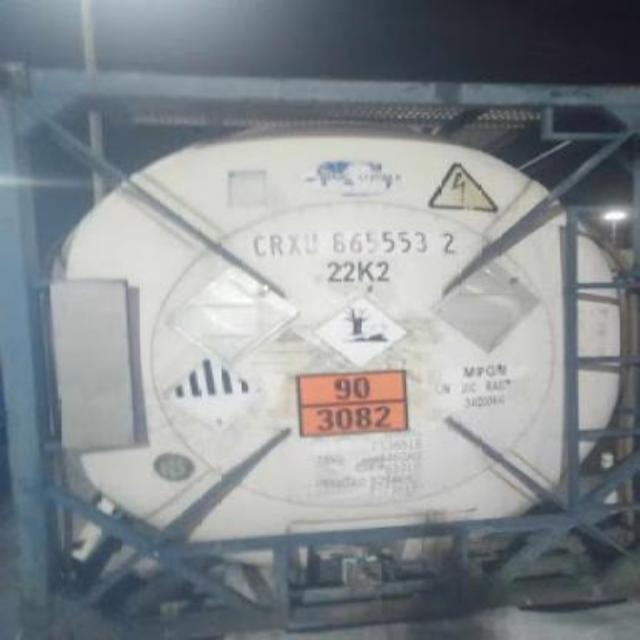2: (440, 230, 460, 253)
3: (412, 231, 428, 255)
5: (396, 231, 414, 255), (364, 230, 380, 253), (380, 230, 396, 253)
6: (348, 231, 364, 255)
8: (330, 230, 348, 253)
C: (250, 233, 268, 257)
R: (266, 233, 286, 257)
U: (302, 233, 320, 257)
X: (287, 232, 303, 255)
